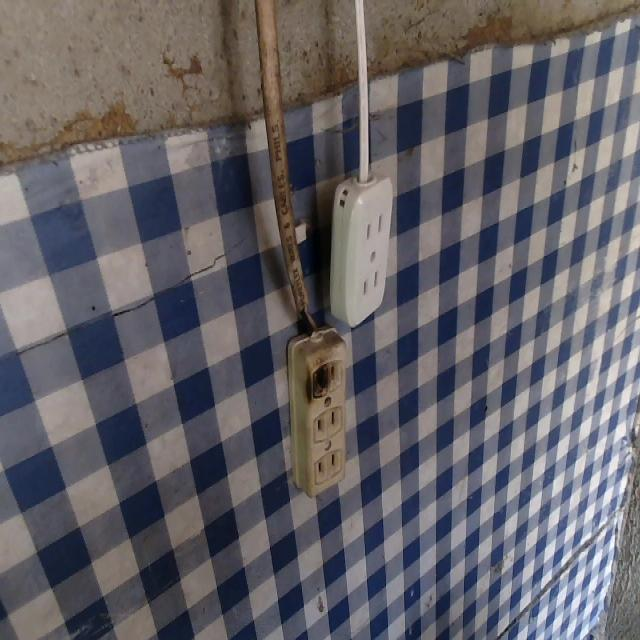-: (304, 359, 331, 400)
